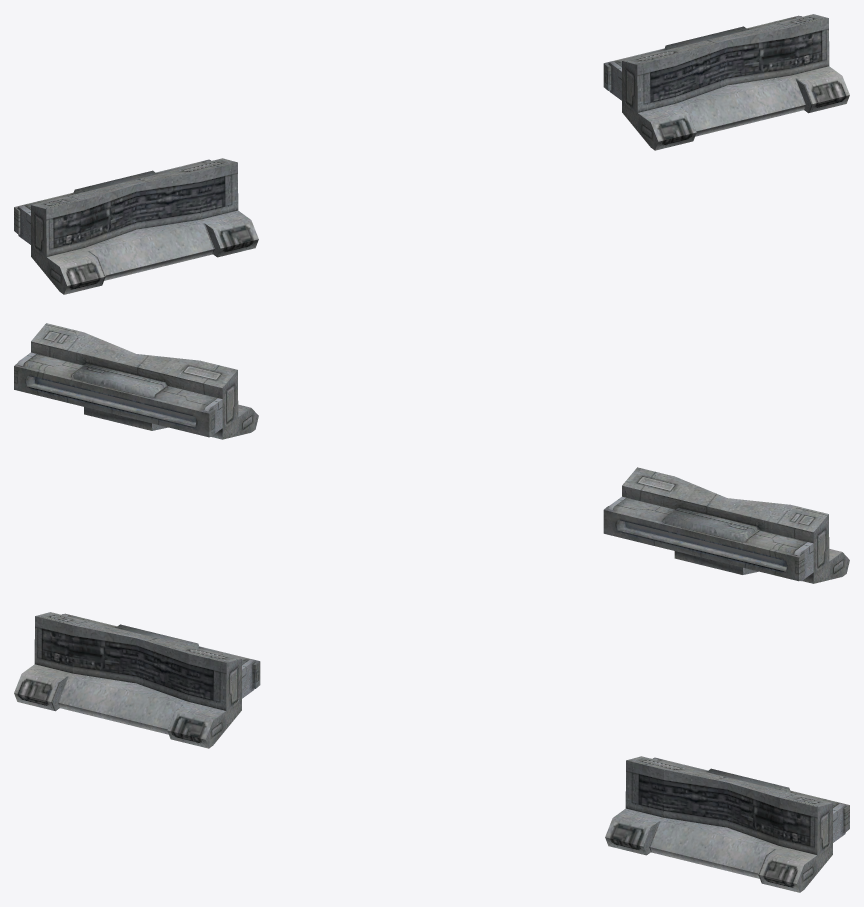
The model's file is ywing_booster_s01_l1.fbx.
3 views of the same model, one above another, from view 1: azimuth 30°, elevation 25°; view 2: azimuth 150°, elevation 25°; view 3: azimuth 330°, elevation 25° (orthographic).
Visible parts, largest first — view 1: mesh_node; view 2: mesh_node; view 3: mesh_node.
Boxes of the visible parts, x1,y1,x2,y2 form: mesh_node: [14, 14, 849, 294]; mesh_node: [14, 323, 849, 583]; mesh_node: [14, 612, 849, 892].
Size of the model in its own units: 6.92 by 0.6121 by 0.795.
